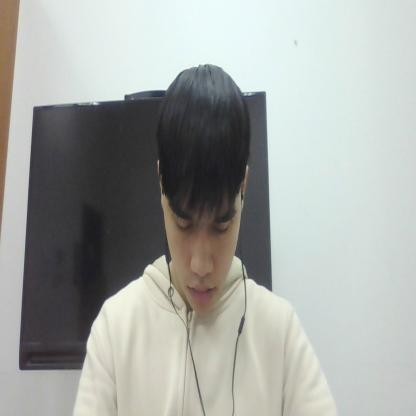Closed-Eyes: (165, 196, 240, 240)
